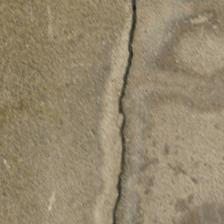Crack: (52, 1, 95, 222)
